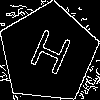H: (23, 28, 75, 85)
